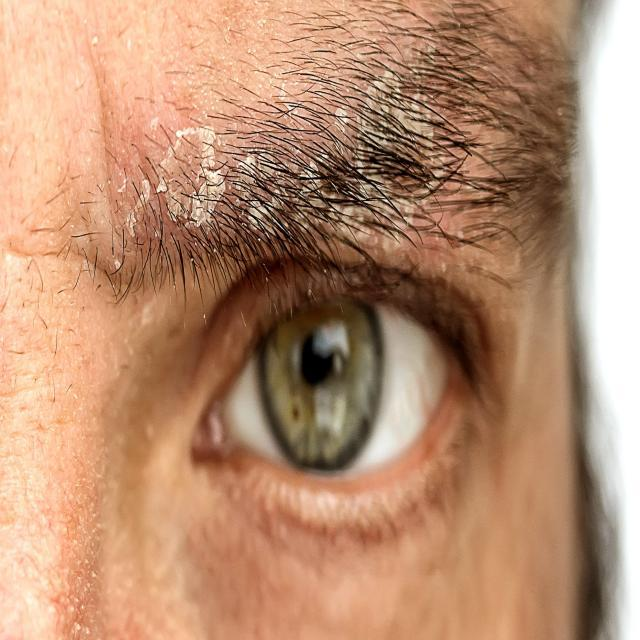dry: (104, 88, 542, 270)
